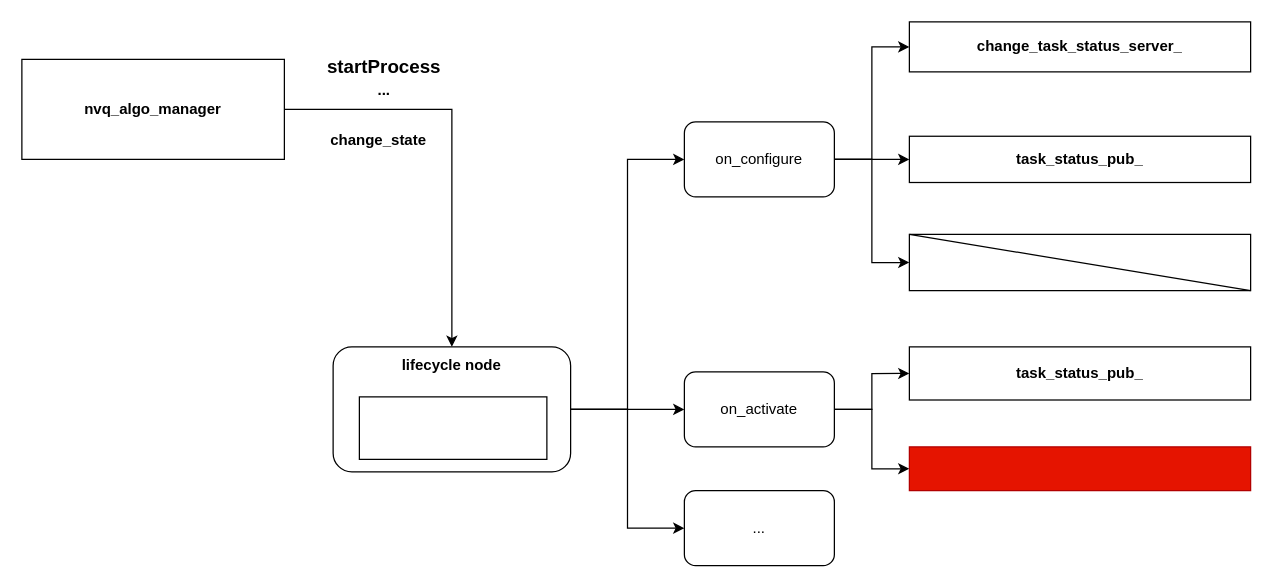
The diagram is 1274 pixels wide and 588 high, and some of its shapes have lost their labels. The shapes that lost their labels are listed below. From the top down, each one's centre as x and y in pixels, then its label:
(1079,262): task_action_service_
(452,427): nvq behavior server
(1079,468): loop_thread
